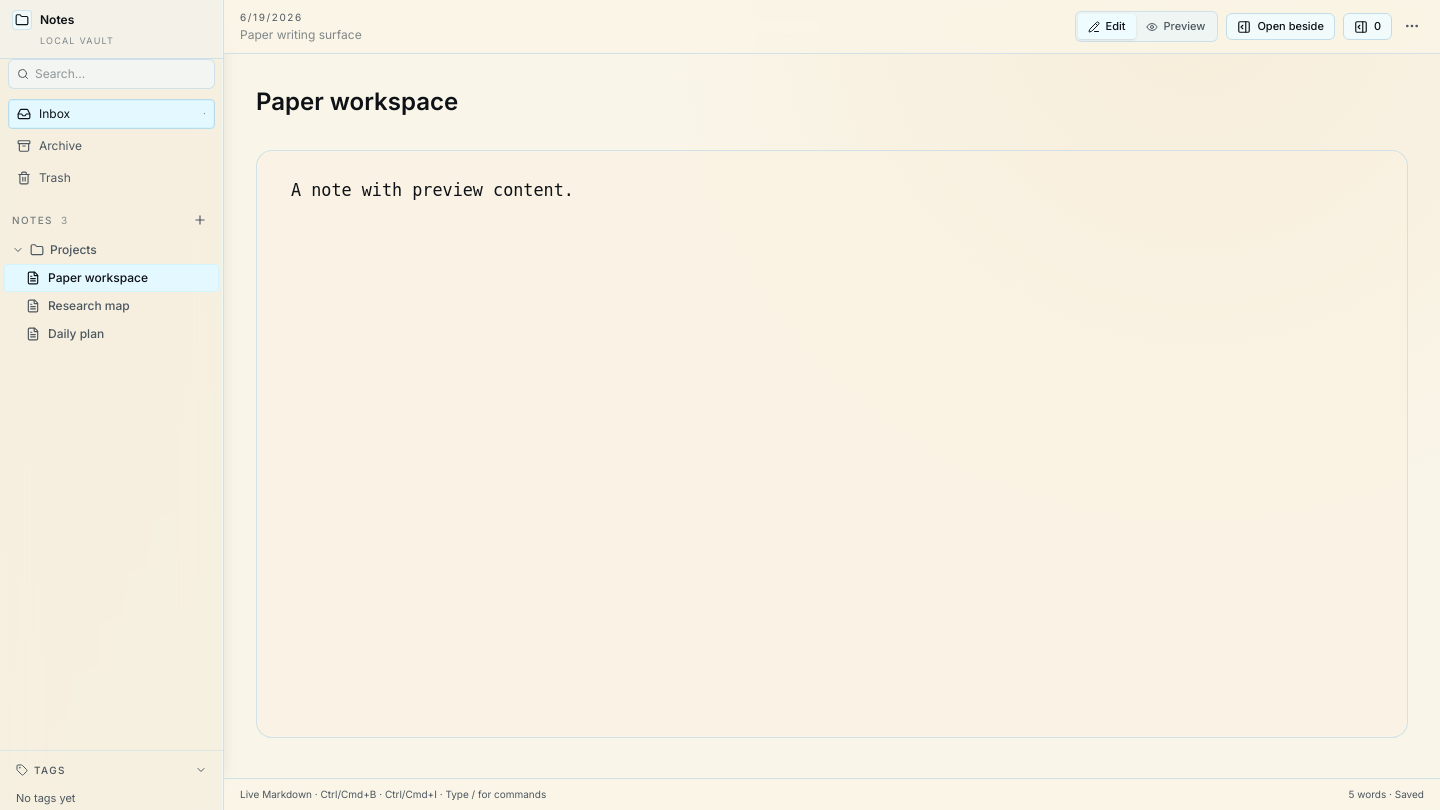
NotesPage › does not keep duplicate panes when the primary note lifecycle advances to the secondary note
The width and height of the screenshot is (1440, 810).
Check: the field showing "Paper workspace" is shown, box [256,86,1408,118]
Right-click the button "Research map" at (112, 306), box [4,292,219,320]
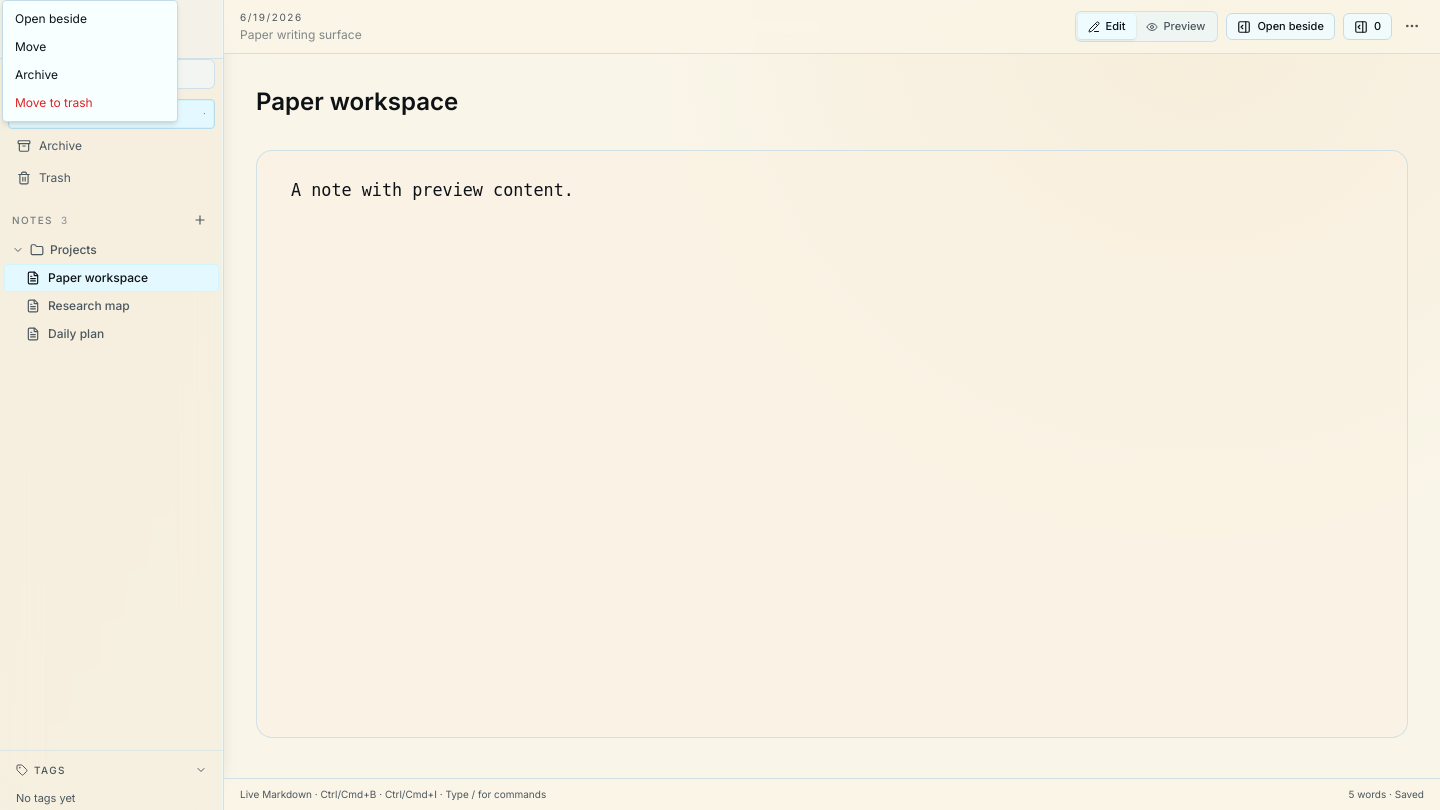
Click the menu item "Open beside" at (51, 18), box [15,11,87,26]
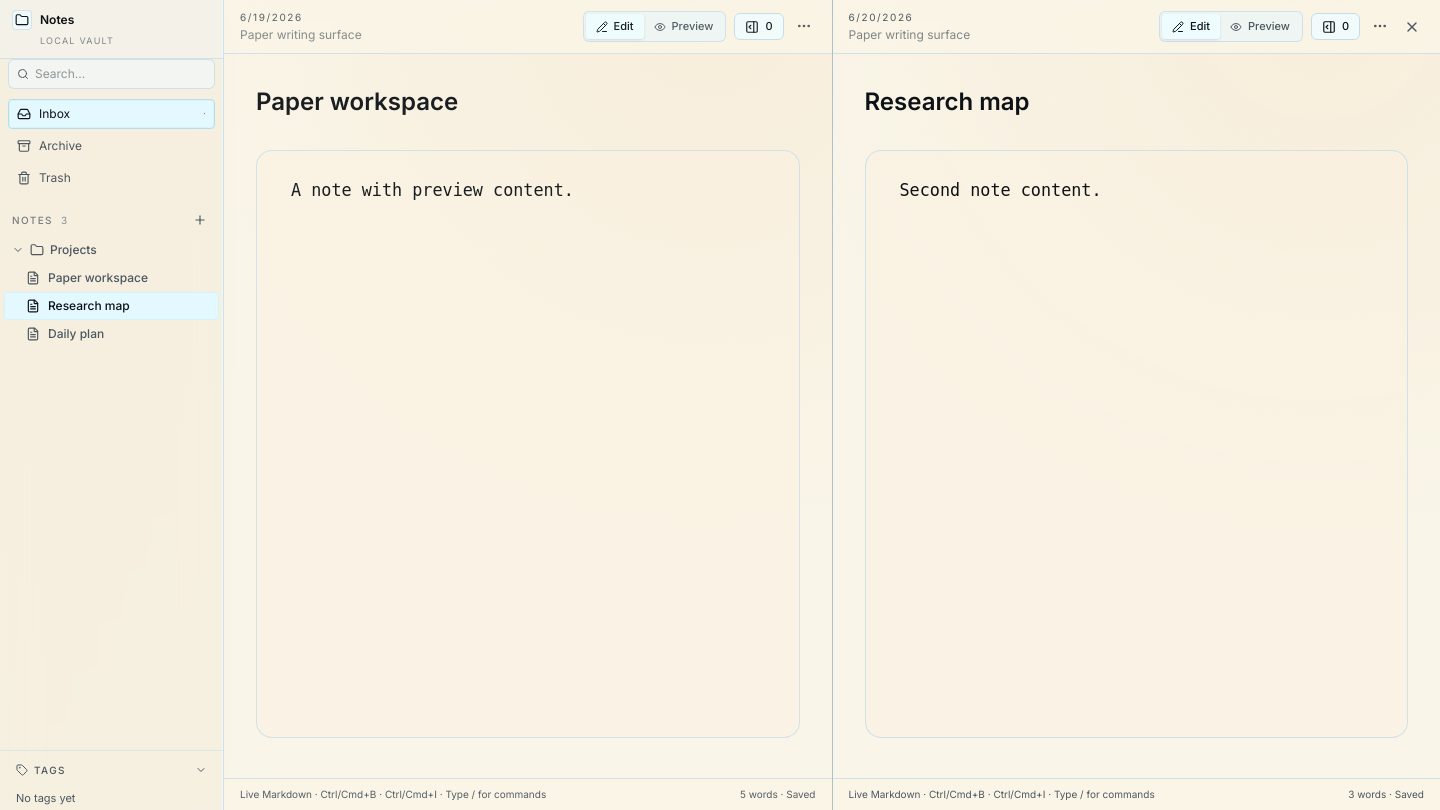
Click the button named "Note actions" in the row of "6/19/2026" at (804, 26), box [792,14,816,38]
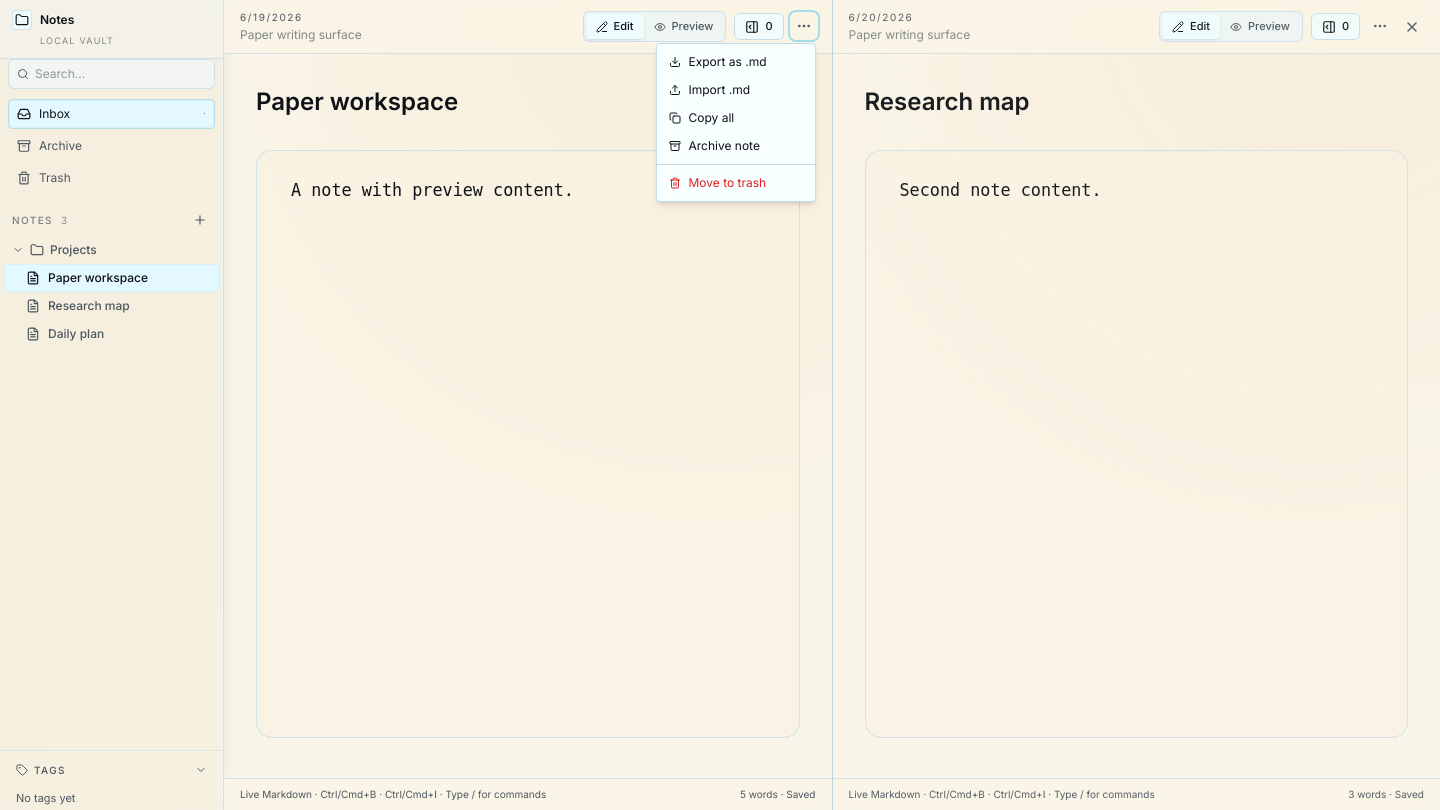
Click the button "Archive note" at (736, 146), box [656,132,814,160]
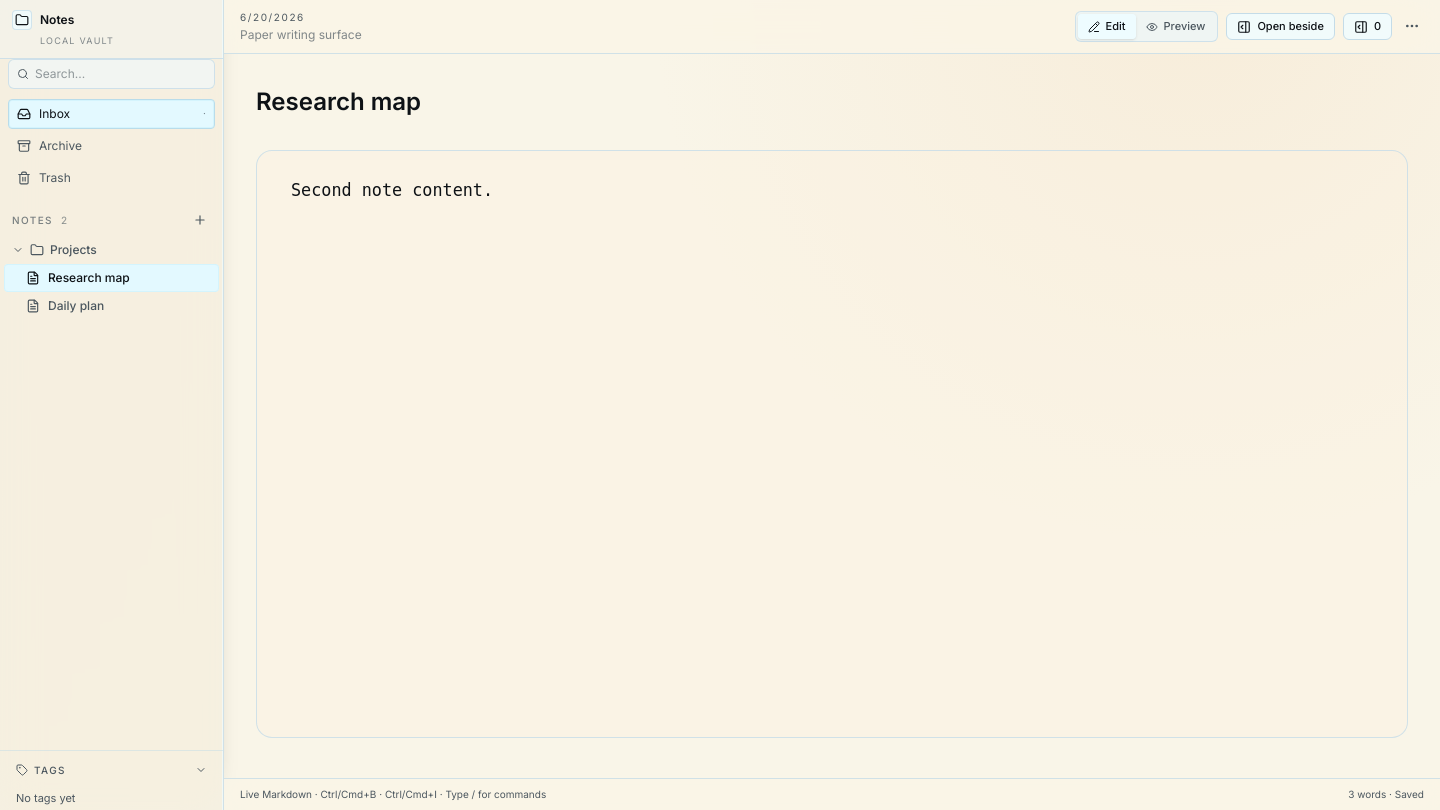
Check: the field showing "Research map" is shown, box [256,86,1408,118]
